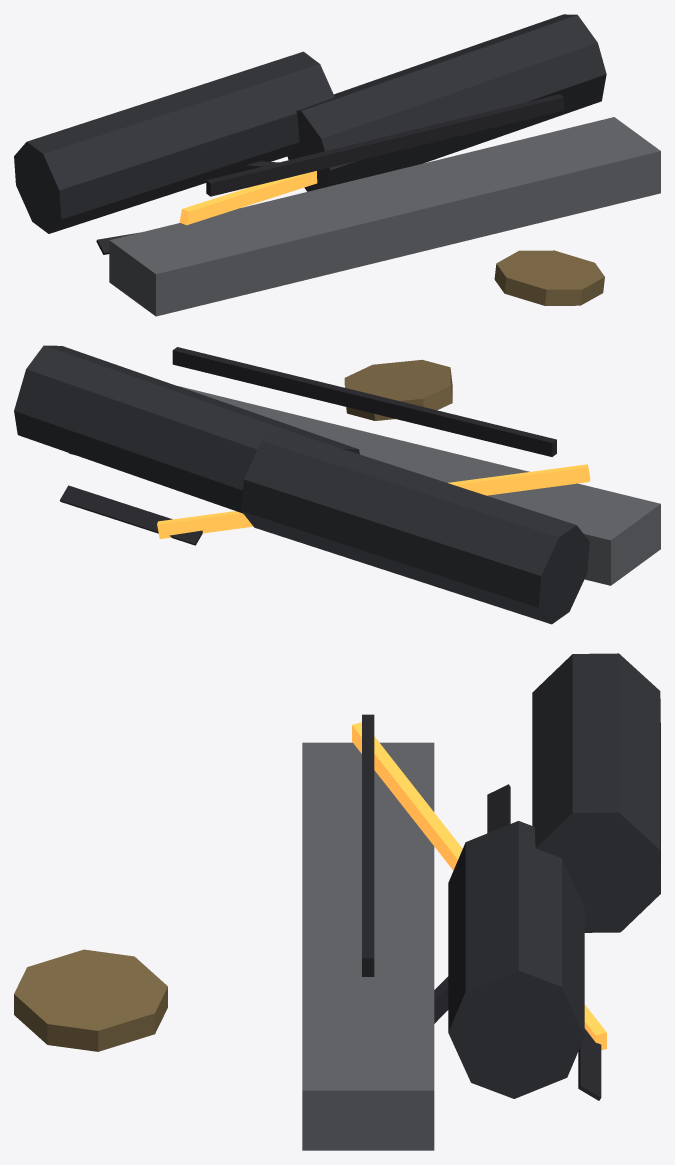
File: Wreck_Aegis_PulseWall.fbx
3 renders of one model, top to bottom at view 1: azimuth 30°, elevation 25°; view 2: azimuth 150°, elevation 25°; view 3: azimuth 270°, elevation 25°, orthographic. The views are drawn at different scales.
Parts seen in each view (by area): view 1: Wreck_Aegis_PulseWall; view 2: Wreck_Aegis_PulseWall; view 3: Wreck_Aegis_PulseWall.
Boxes of the visible parts, <box> form: Wreck_Aegis_PulseWall: <box>14,14,660,316</box>; Wreck_Aegis_PulseWall: <box>14,345,660,624</box>; Wreck_Aegis_PulseWall: <box>14,653,660,1150</box>.
Bounding box in the file's own units: 2.07 × 0.4698 × 1.57.
